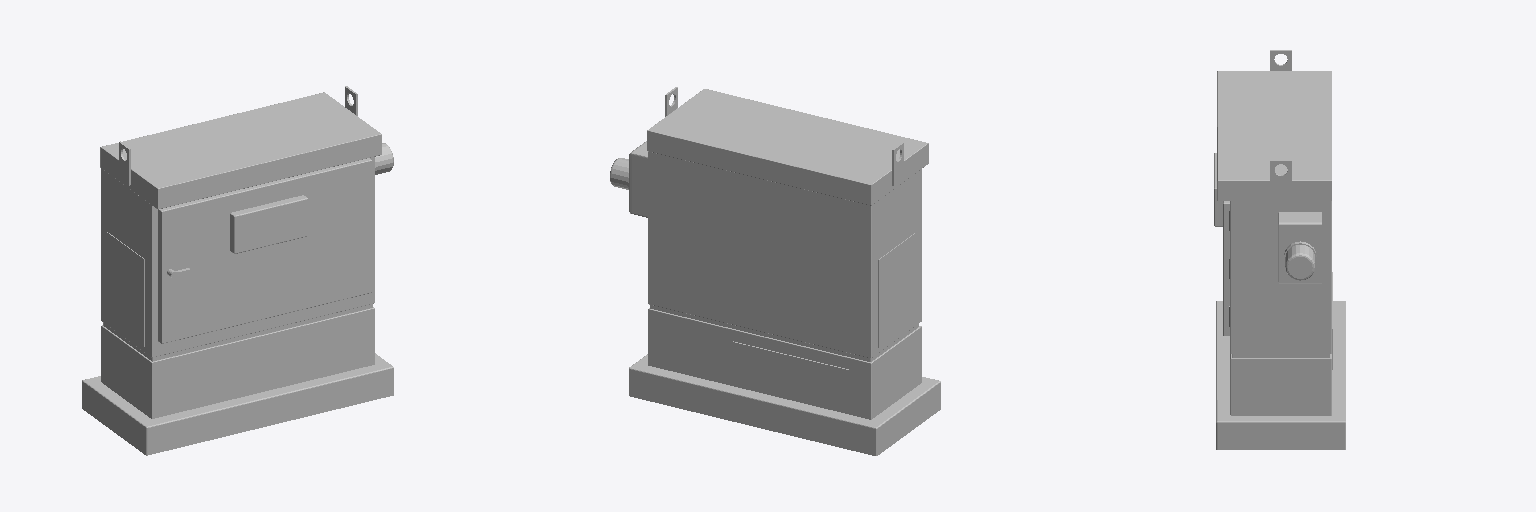
Rendered from utility.obj.
3 renders of one model, left to right at view 1: azimuth 30°, elevation 25°; view 2: azimuth 150°, elevation 25°; view 3: azimuth 270°, elevation 25°, orthographic.
Parts seen in each view (by area): view 1: Utility_Utility_shader_0; view 2: Utility_Utility_shader_0; view 3: Utility_Utility_shader_0.
Part boxes in pixels (x1,y1,x2,y2): Utility_Utility_shader_0: (82,86,393,455); Utility_Utility_shader_0: (610,87,940,455); Utility_Utility_shader_0: (1214,50,1345,449).
Size of the model in its own units: 2.21 by 2.12 by 0.8919.